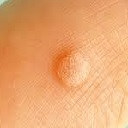Wart: (51, 50, 95, 91)
